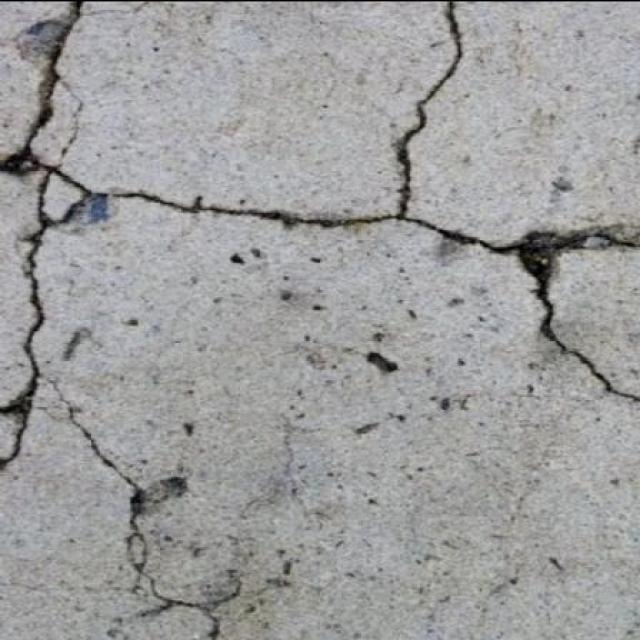Crack: (0, 0, 639, 470), (49, 380, 219, 640)
